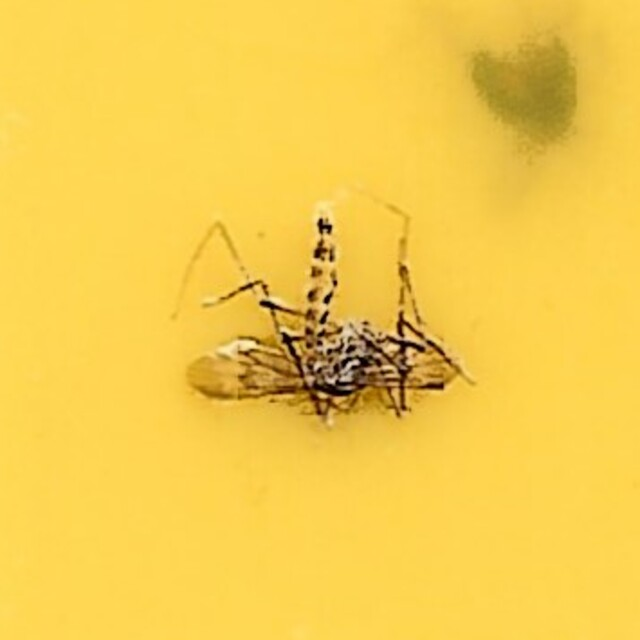Nematocera: (180, 206, 460, 434)
